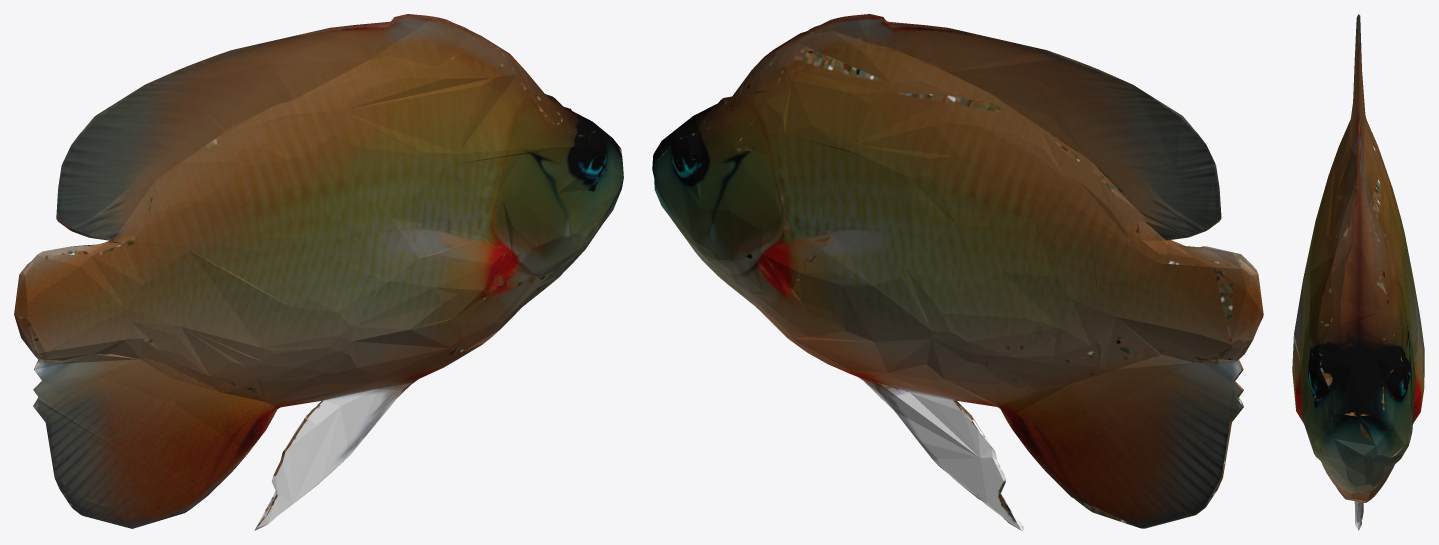
Rendered from fish_0030_smpl23_resized.glb.
3 renders of one model, left to right at view 1: azimuth 30°, elevation 25°; view 2: azimuth 150°, elevation 25°; view 3: azimuth 270°, elevation 25°, orthographic. The views are drawn at different scales.
Visible parts, largest first — view 1: world; view 2: world; view 3: world.
Boxes of the visible parts, x1,y1,x2,y2 form: world: [14, 14, 623, 530]; world: [652, 14, 1263, 530]; world: [1292, 14, 1424, 530].
Bounding box in the file's own units: 1.98 × 1.52 × 0.3884.
Materials: 1 (1 with a texture image).
